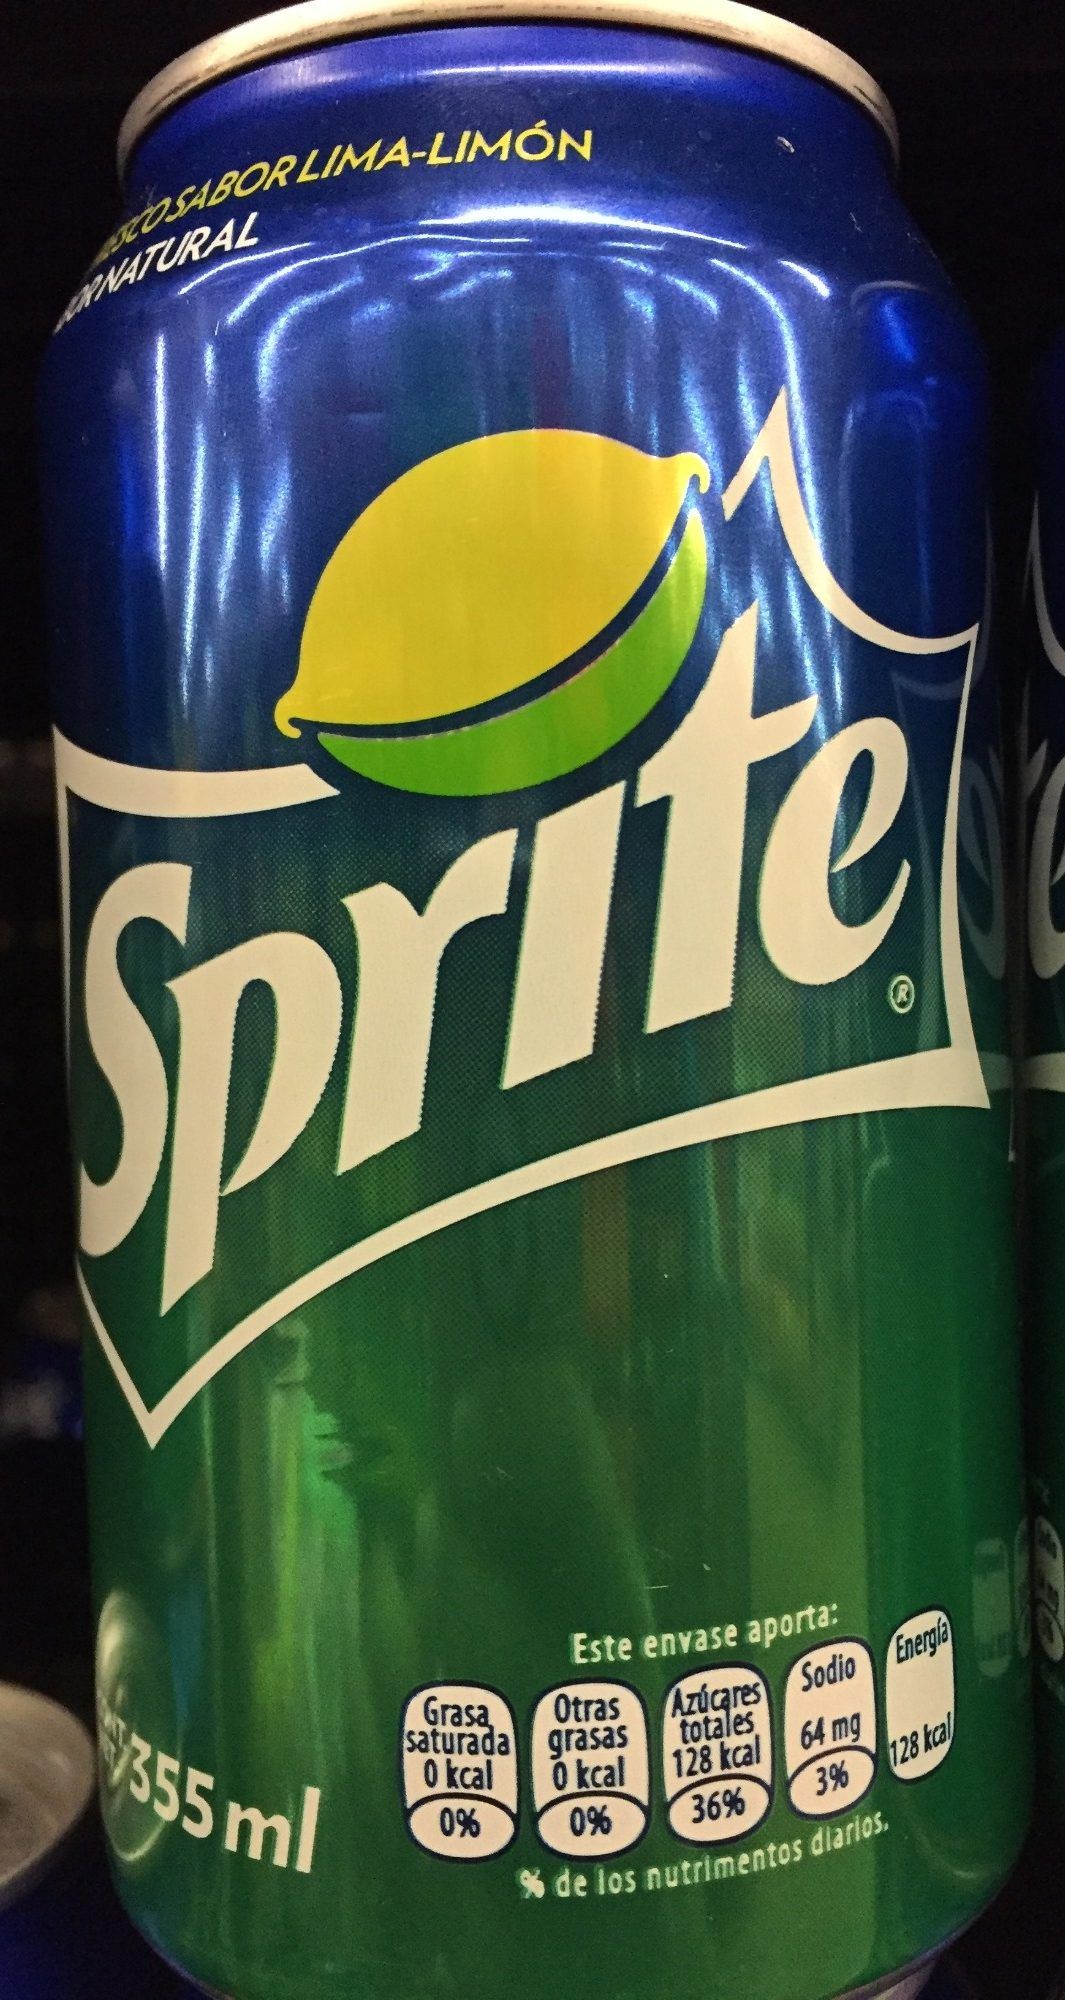Sprite: (52, 60, 1013, 1966)
